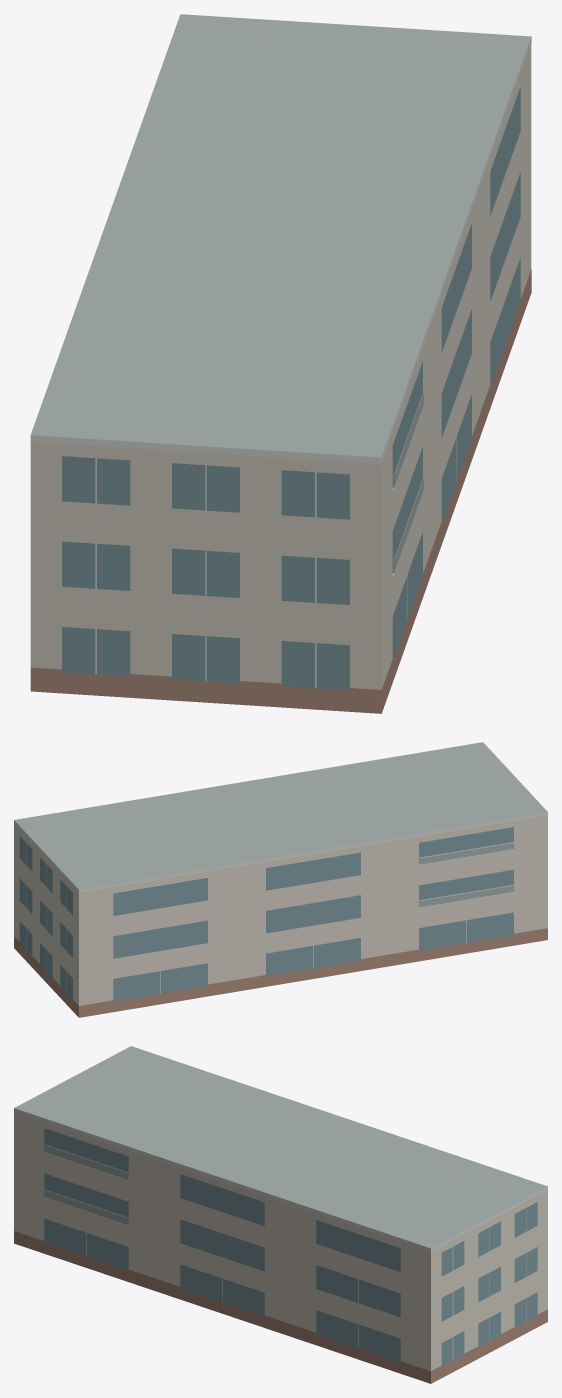
File: residential-43ef756d-ba85-49e8-aead-f556f10630c7.glb
3 views of the same model, one above another, from view 1: azimuth 30°, elevation 25°; view 2: azimuth 150°, elevation 25°; view 3: azimuth 270°, elevation 25° (orthographic). The views are drawn at different scales.
Parts seen in each view (by area): view 1: residential-43ef756d-ba85-49e8-aead-f556f10630c7.tmp; view 2: residential-43ef756d-ba85-49e8-aead-f556f10630c7.tmp; view 3: residential-43ef756d-ba85-49e8-aead-f556f10630c7.tmp.
Boxes of the visible parts, x1,y1,x2,y2 form: residential-43ef756d-ba85-49e8-aead-f556f10630c7.tmp: (30, 14, 531, 713); residential-43ef756d-ba85-49e8-aead-f556f10630c7.tmp: (14, 742, 547, 1017); residential-43ef756d-ba85-49e8-aead-f556f10630c7.tmp: (14, 1046, 547, 1383).
Bounding box in the file's own units: 29.32 × 9.15 × 32.68.
